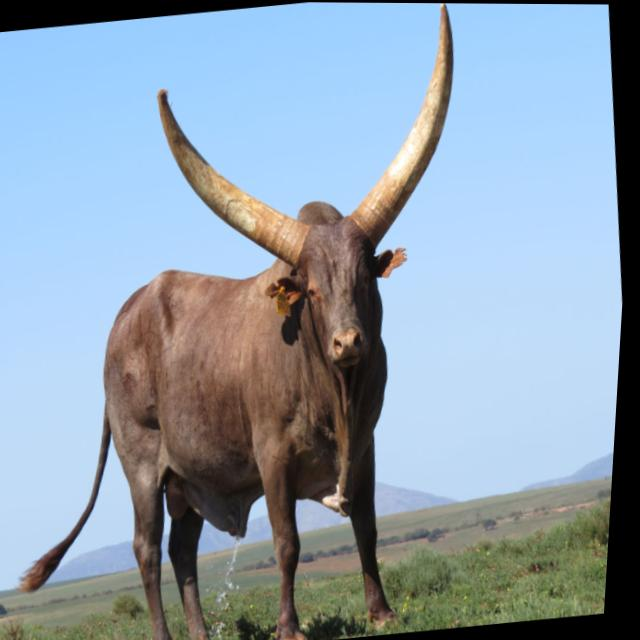cowFace: (123, 2, 502, 429)
